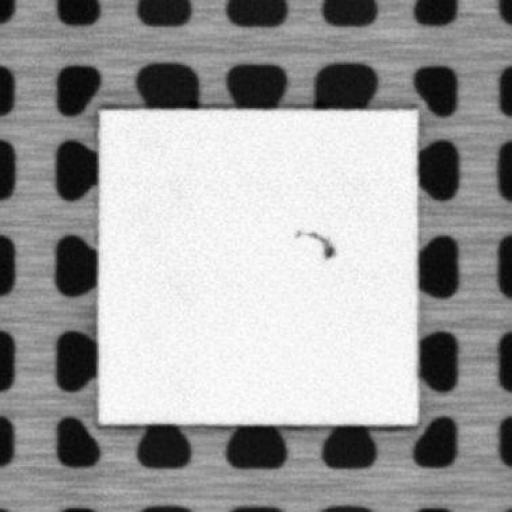DIE_INK: (292, 228, 334, 258)
